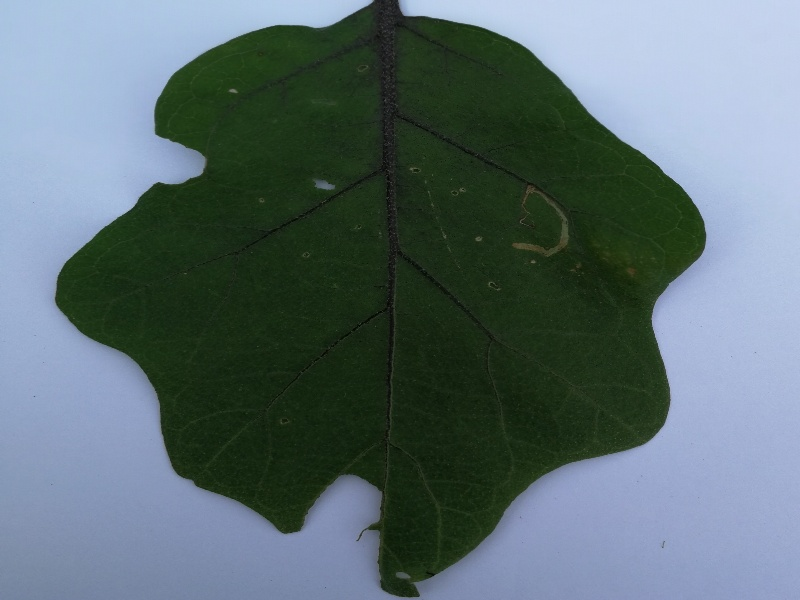leafminer: (503, 174, 583, 263)
